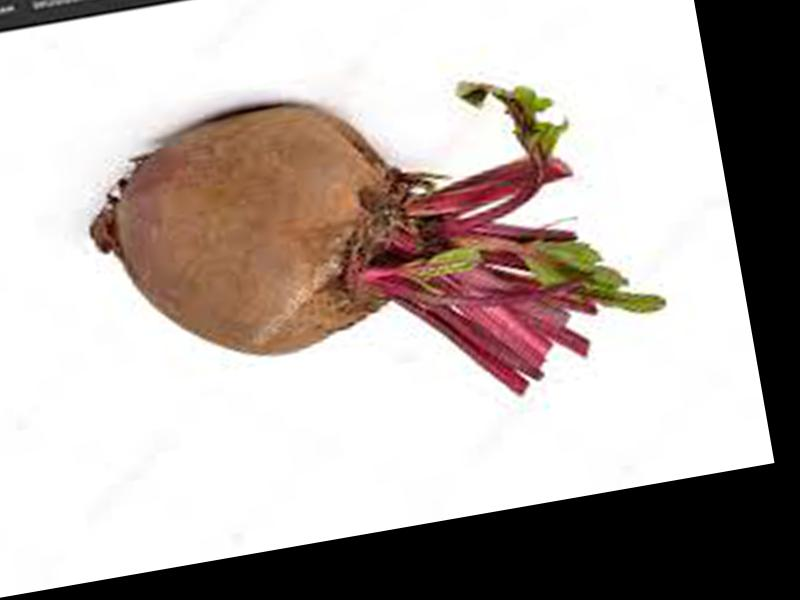Beet: (72, 41, 676, 463)
